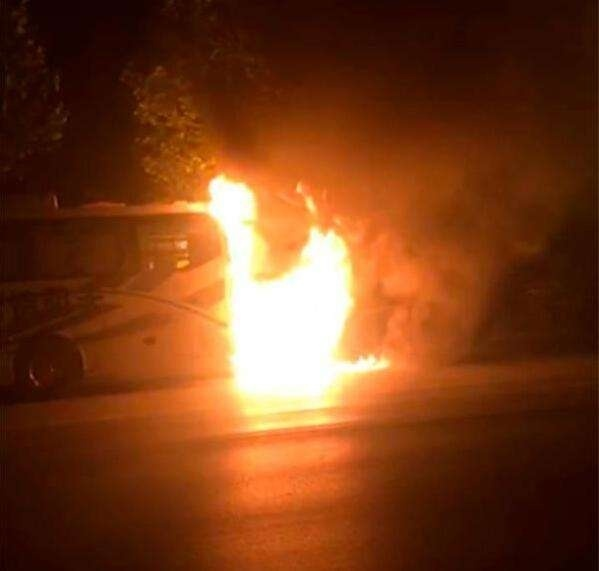fire: (203, 171, 379, 403)
